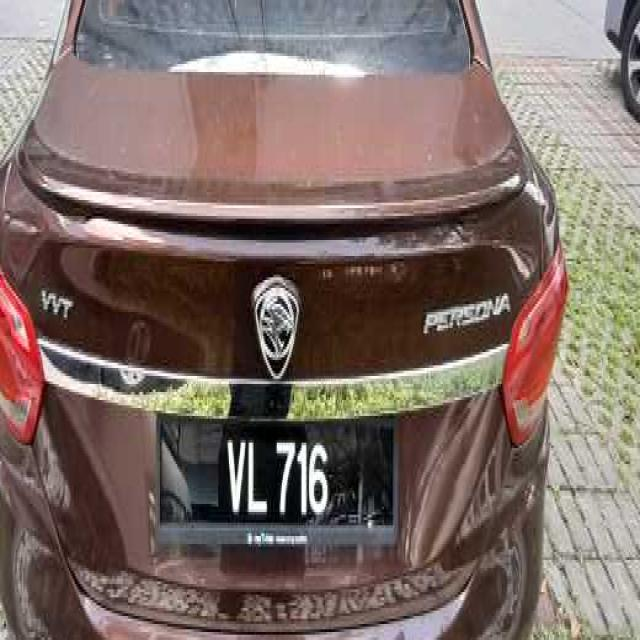car-plate: (150, 400, 404, 555)
